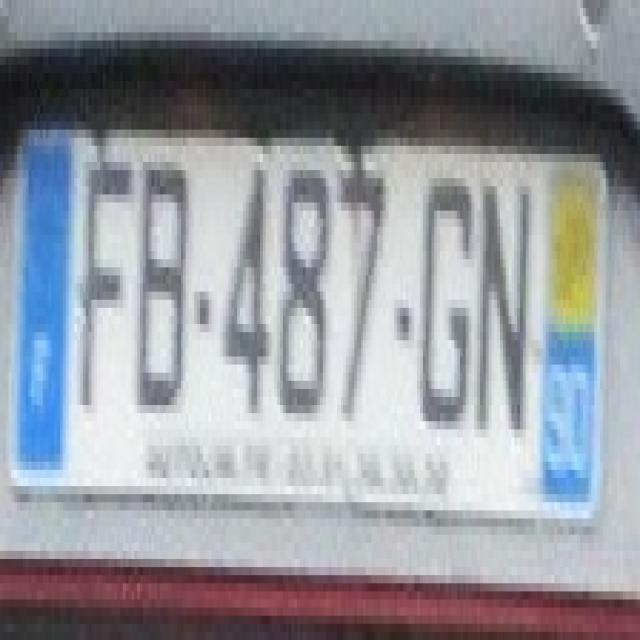EU: (13, 134, 600, 511)
France: (18, 148, 67, 478)
